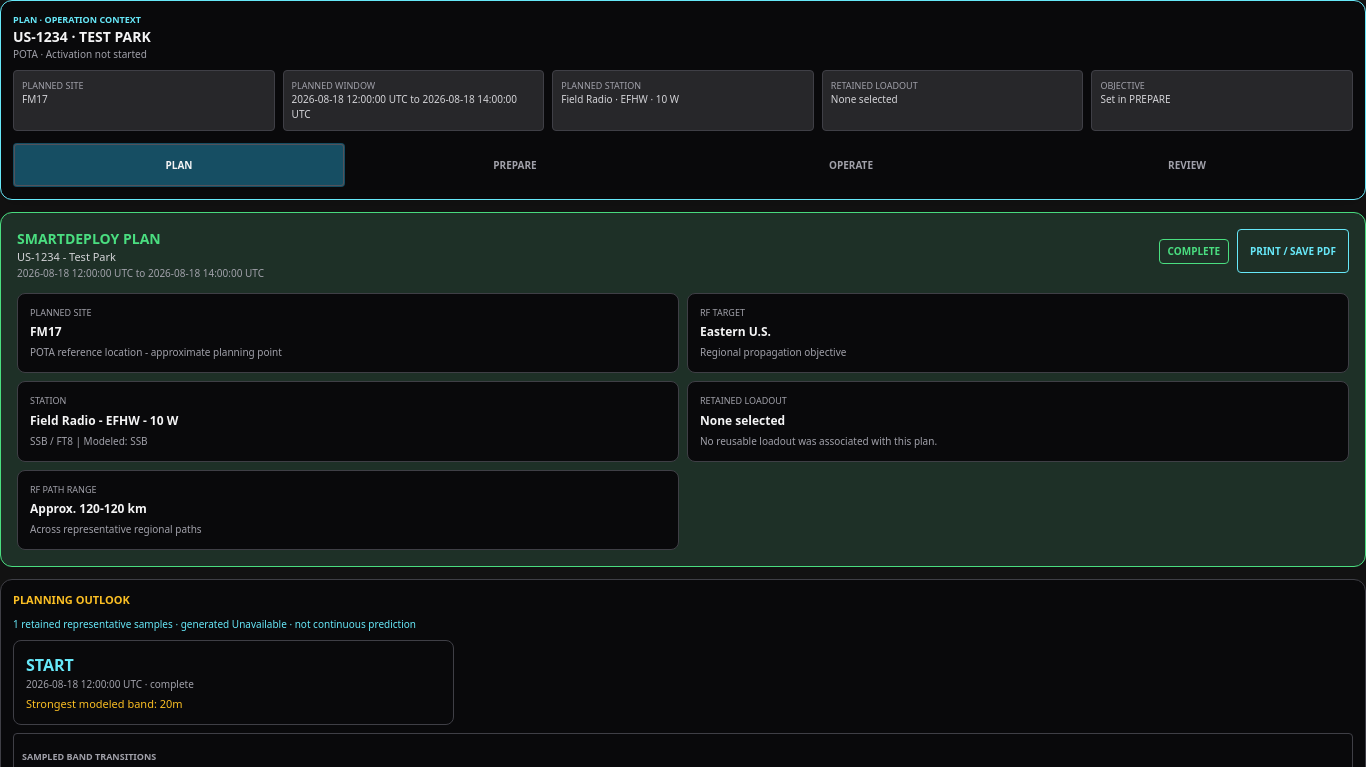
it: SmartDeploy brief rendering › switches between exclusive PLAN, PREPARE, OPERATE, and REVIEW views
The width and height of the screenshot is (1366, 767).
Expected: the heading "SMARTDEPLOY PLAN" is shown, [17, 229, 161, 248]
Click the button "prepare".
click(515, 165)  # box [349, 143, 681, 187]
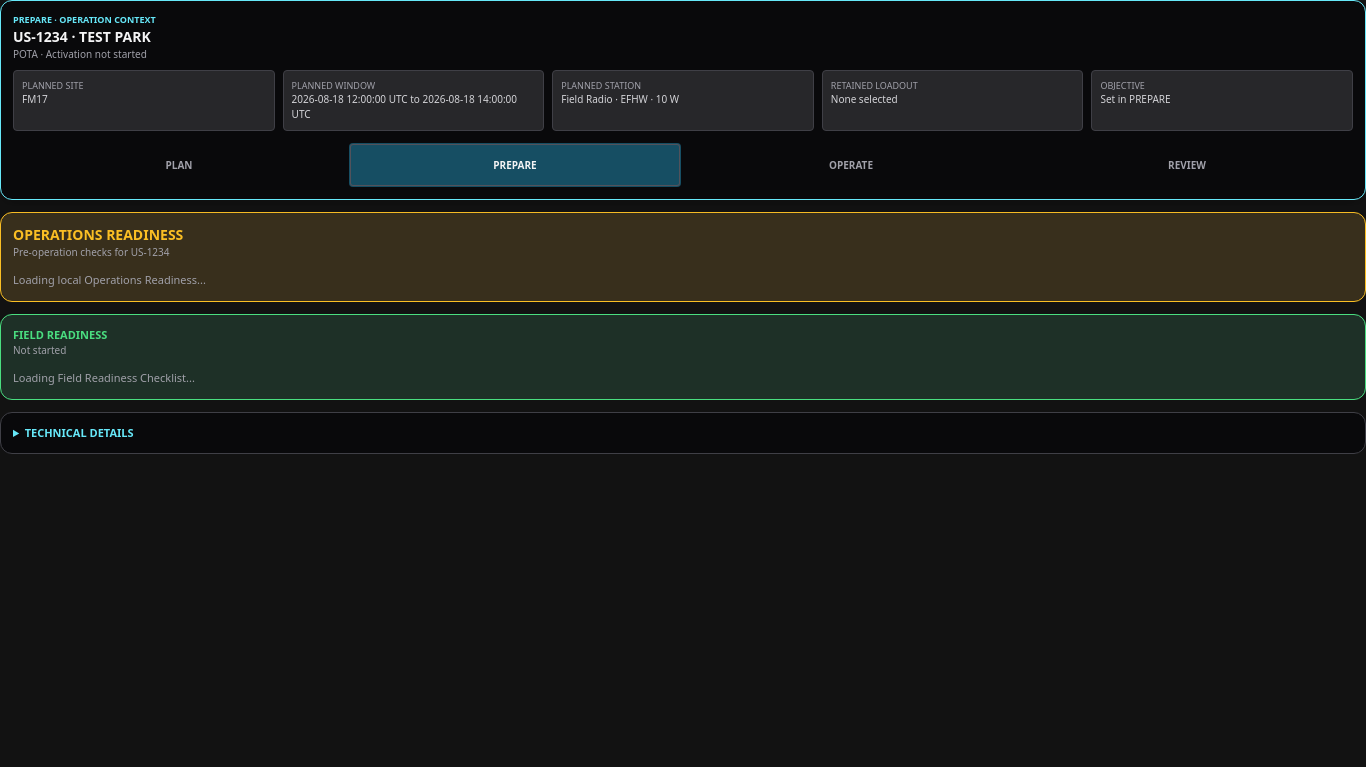
Result: the heading "OPERATIONS READINESS" is shown at [13, 225, 183, 245]
Result: the heading "SMARTDEPLOY PLAN" is gone
Click the button "operate".
click(851, 165)  # box [685, 143, 1017, 187]
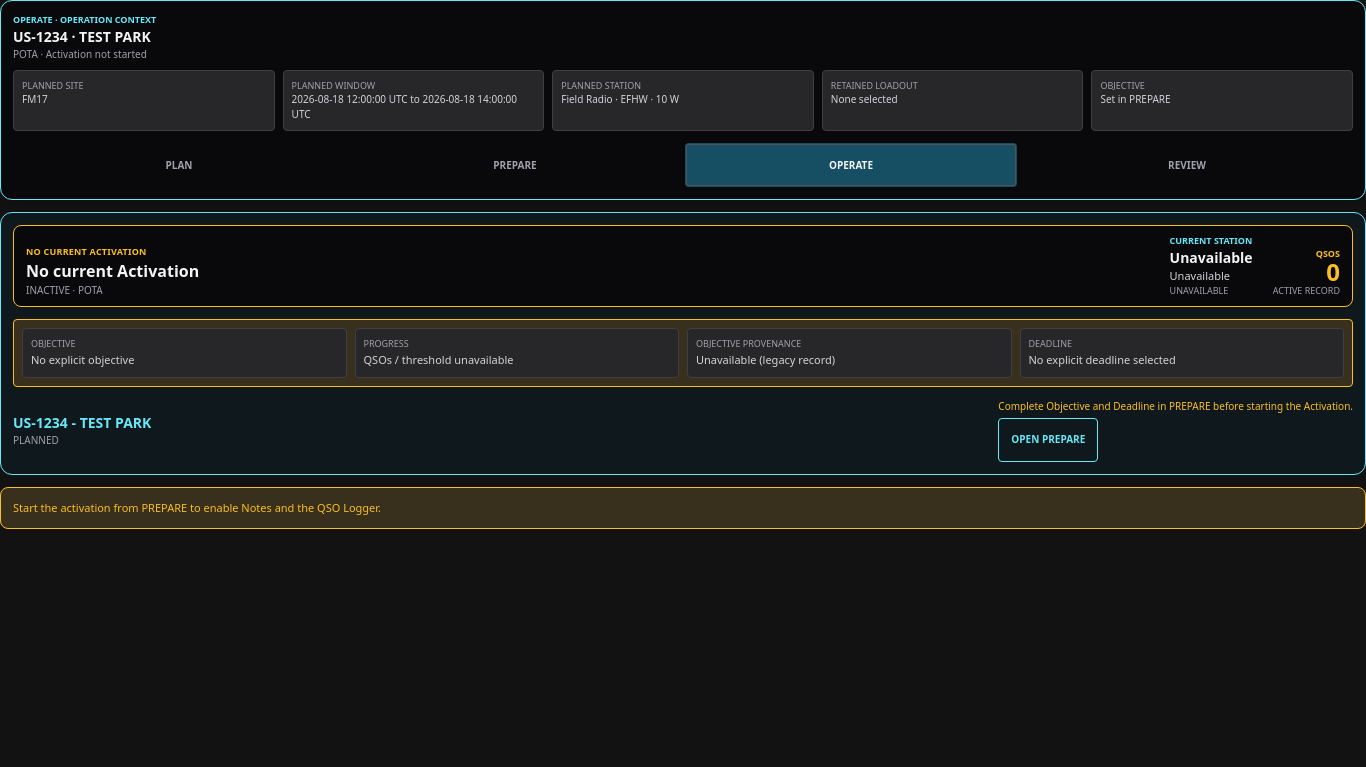
Result: the text "Complete Objective and Deadline in PREPARE before starting the Activation." is shown at [998, 398, 1353, 414]
Result: the button "OPEN PREPARE" is shown at [998, 418, 1098, 462]
Result: the heading "OPERATIONS READINESS" is gone
Click the button "review".
click(1187, 165)  # box [1021, 143, 1353, 187]
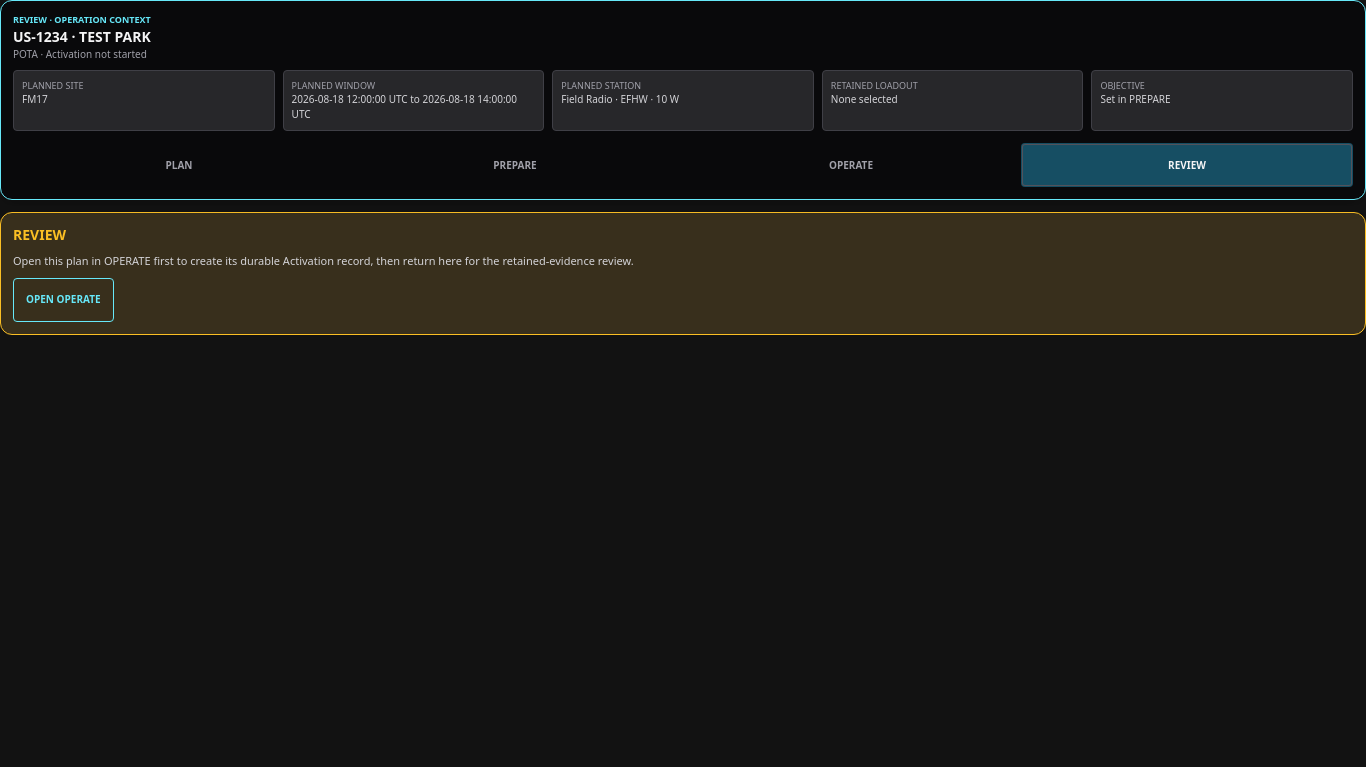
Result: the button "OPEN OPERATE" is shown at [13, 278, 114, 322]
